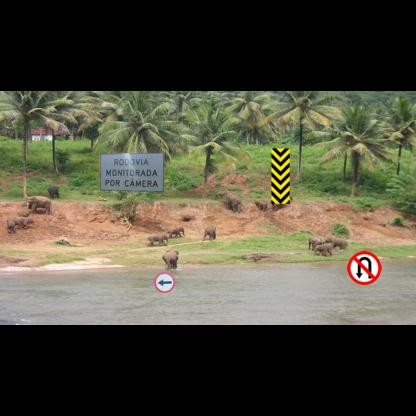I-E: (100, 152, 164, 193)
O-MP: (271, 148, 289, 204)
R-24a: (154, 272, 175, 292)
R-5a: (347, 251, 381, 285)
